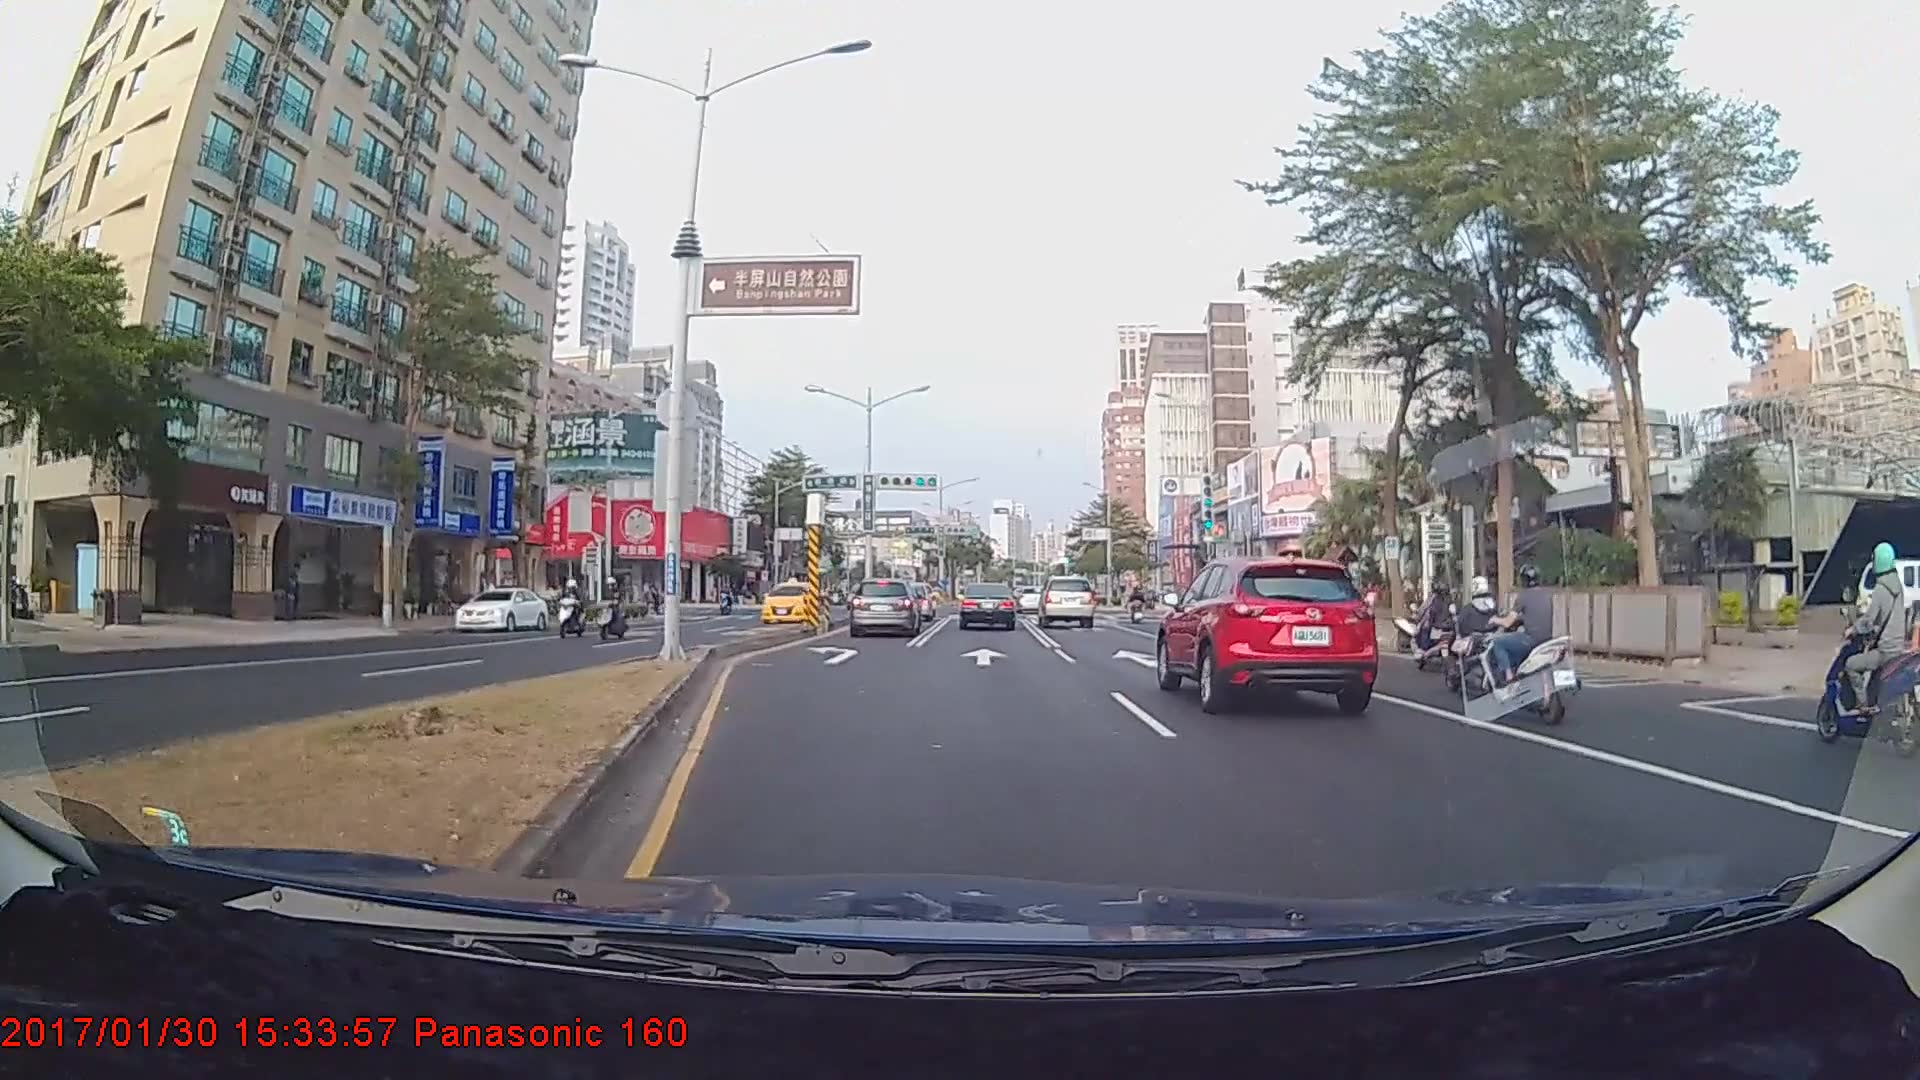rider: (1815, 533, 1920, 768), (1485, 565, 1594, 725), (1440, 569, 1514, 692), (1409, 575, 1466, 673), (591, 576, 631, 642), (555, 576, 593, 641)
vehicle: (1155, 553, 1380, 711), (1854, 560, 1920, 643), (454, 585, 546, 631), (848, 579, 921, 637), (1037, 575, 1096, 629), (960, 581, 1017, 632), (757, 582, 819, 623)
